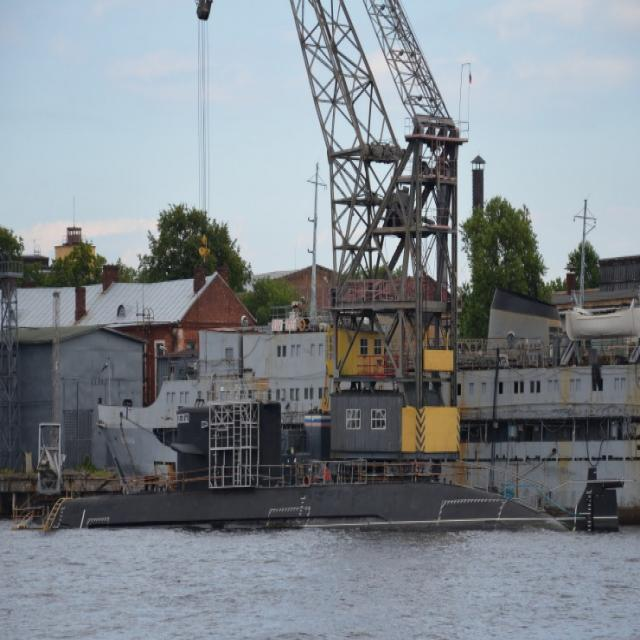submarine: (43, 402, 569, 533)
